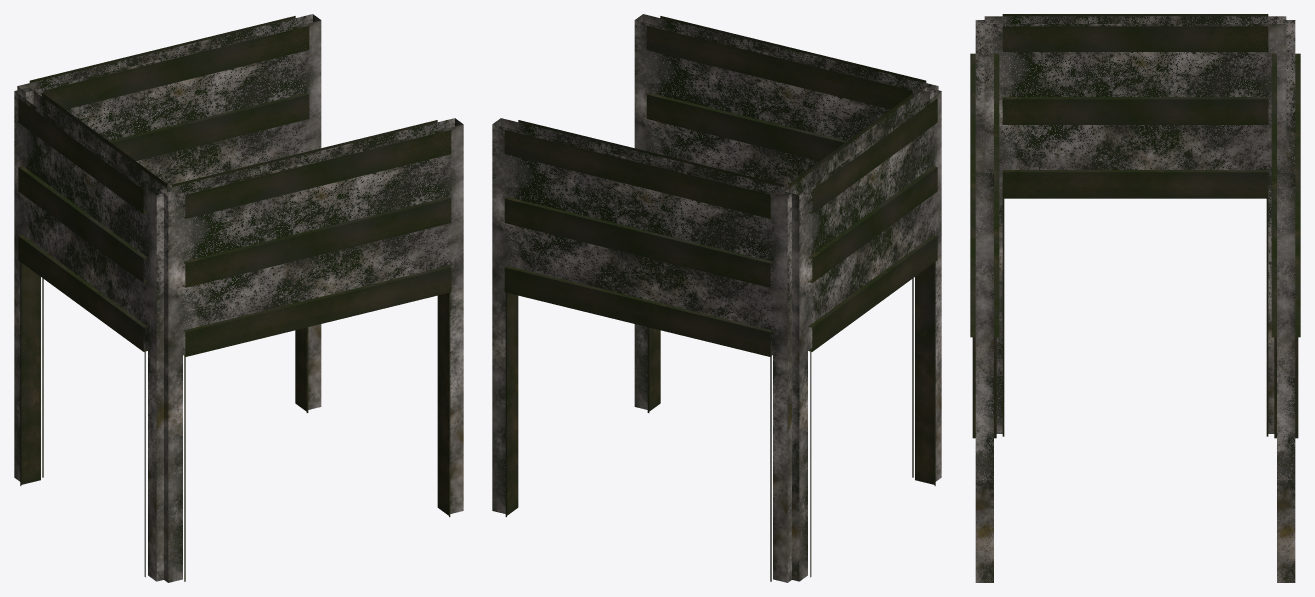
The model's file is shrine_wall_04.fbx.
The picture shows the model from 3 angles, left to right: view 1: azimuth 30°, elevation 25°; view 2: azimuth 150°, elevation 25°; view 3: azimuth 270°, elevation 25°; orthographic projection. The views are drawn at different scales.
Parts seen in each view (by area): view 1: shrine_wall_04; view 2: shrine_wall_04; view 3: shrine_wall_04.
Part boxes in pixels (x1,y1,x2,y2): shrine_wall_04: (14, 14, 463, 582); shrine_wall_04: (492, 14, 941, 582); shrine_wall_04: (970, 14, 1300, 582).
Size of the model in its own units: 412 by 497 by 362.
1 material, 1 textured.
